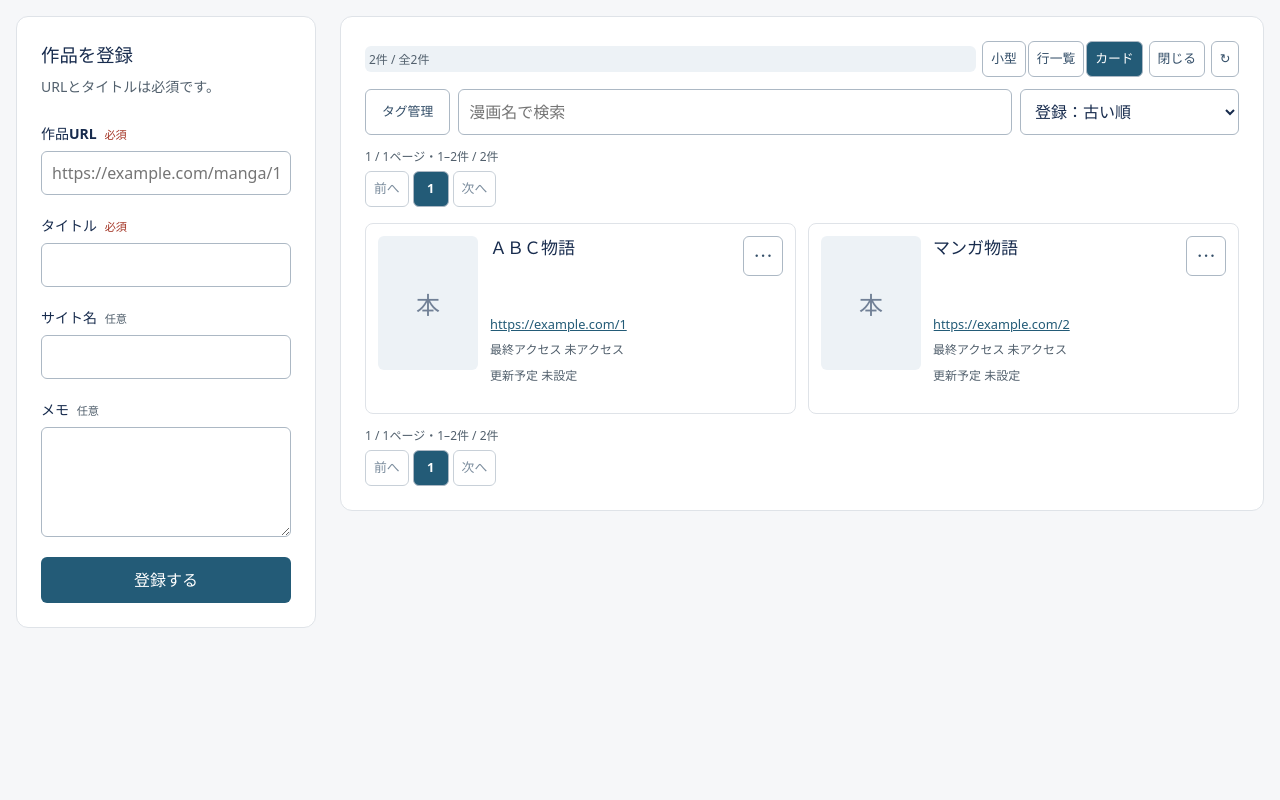
登録中は開閉を止め、検索不一致の登録でも成功を案内する
The width and height of the screenshot is (1280, 800).
Expected: the heading "ＡＢＣ物語" is shown, [490,236,575,259]
Type "abc" into the search field at {"x": 735, "y": 112}, box [458,89,1012,135]
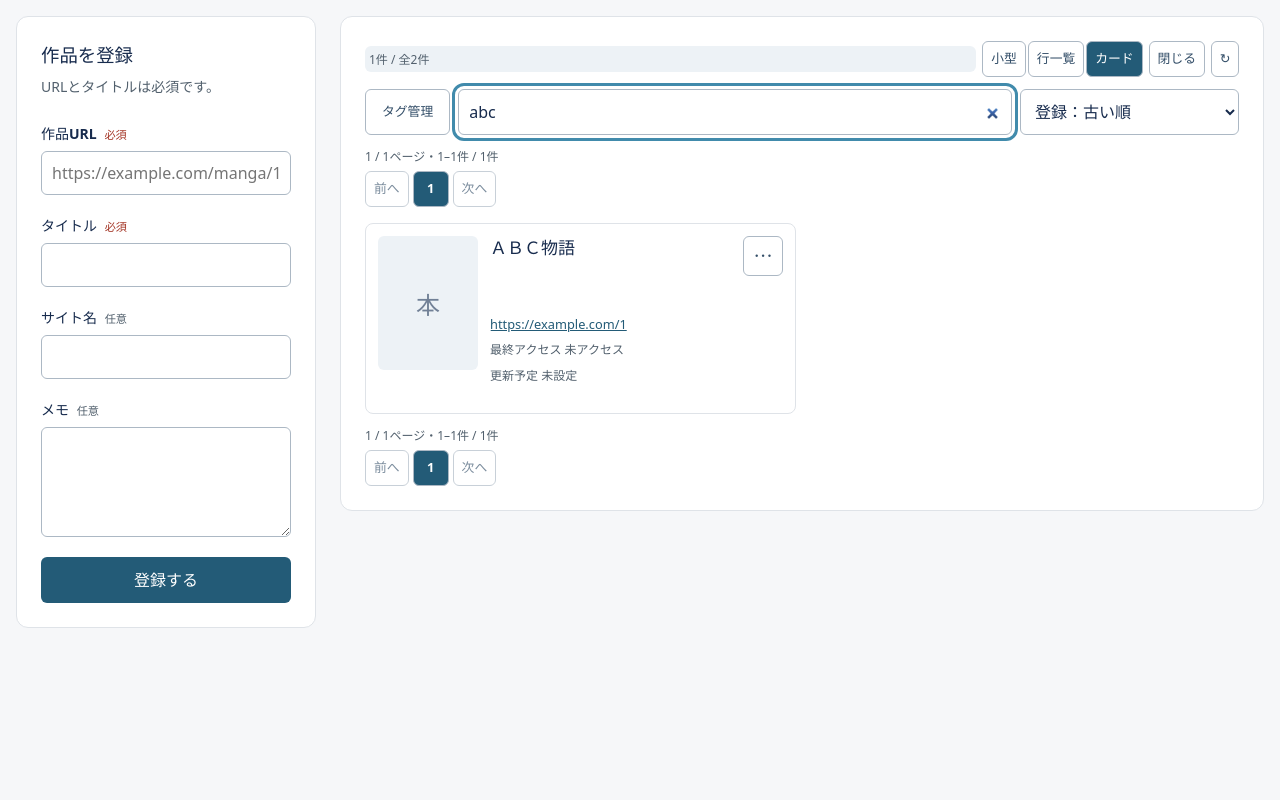
Type "https://example.com/2" into the field labelled "作品URL 必須" at {"x": 166, "y": 173}, box [41,151,291,195]
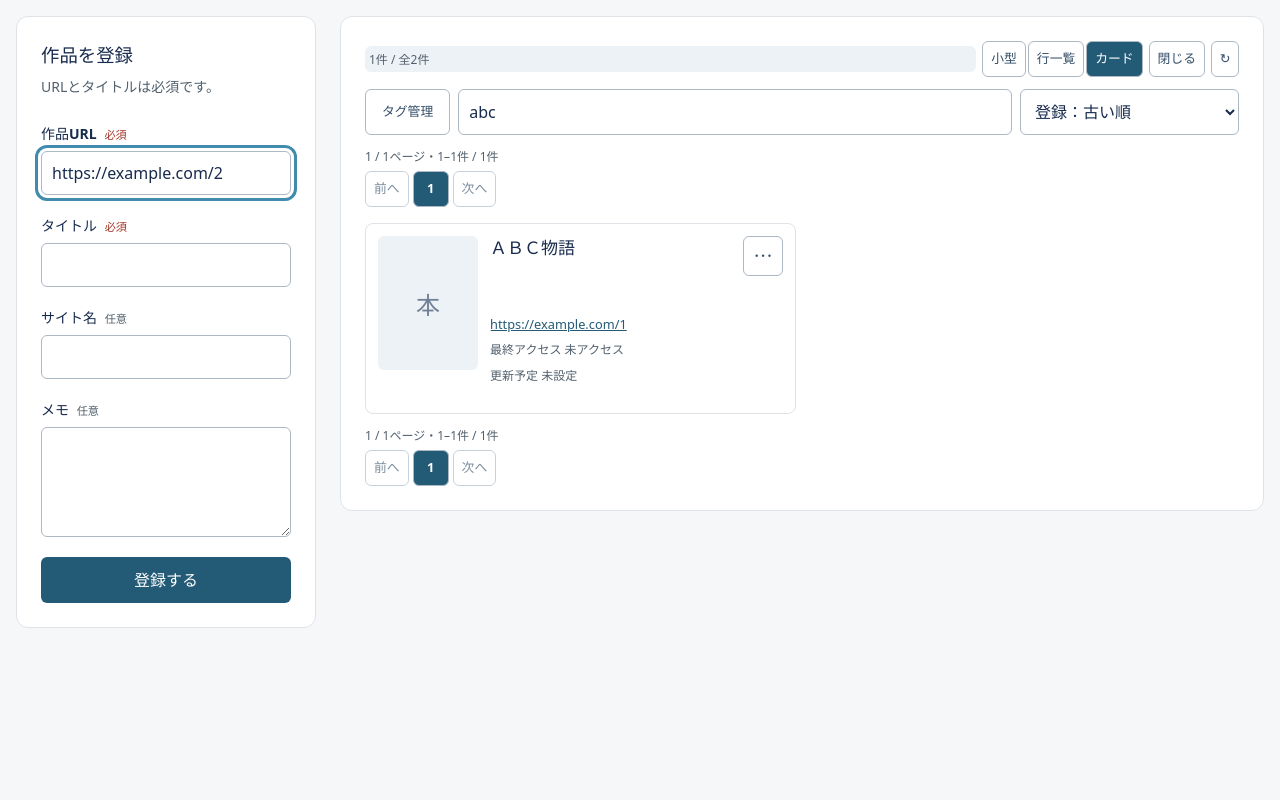
Type "マンガ物語" into the field labelled "タイトル 必須" at {"x": 166, "y": 265}, box [41,243,291,287]
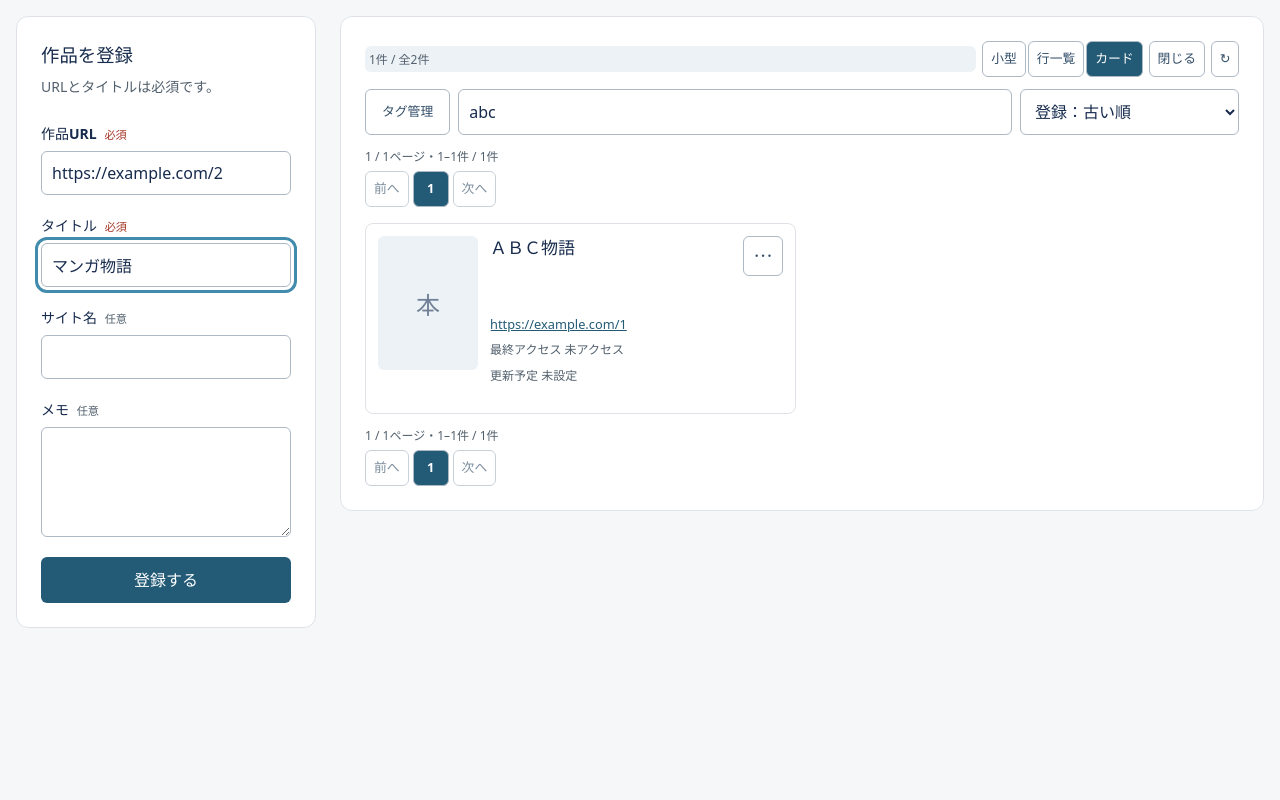
Click the button "登録する" at {"x": 166, "y": 580}, box [41,557,291,603]
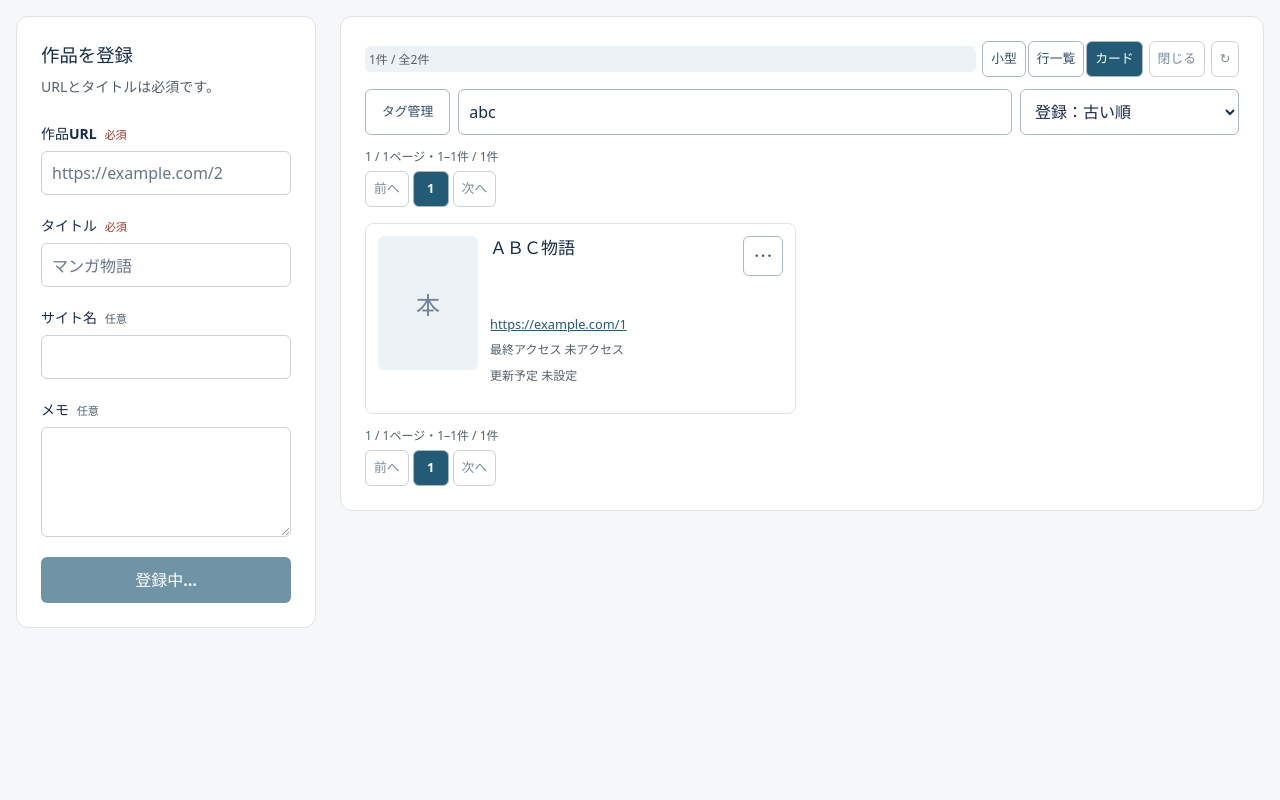
Expected: the button with aria-label "登録フォームを閉じる" is disabled
Click the button with aria-label "登録フォームを閉じる" at {"x": 1177, "y": 59}, box [1149,41,1205,77]
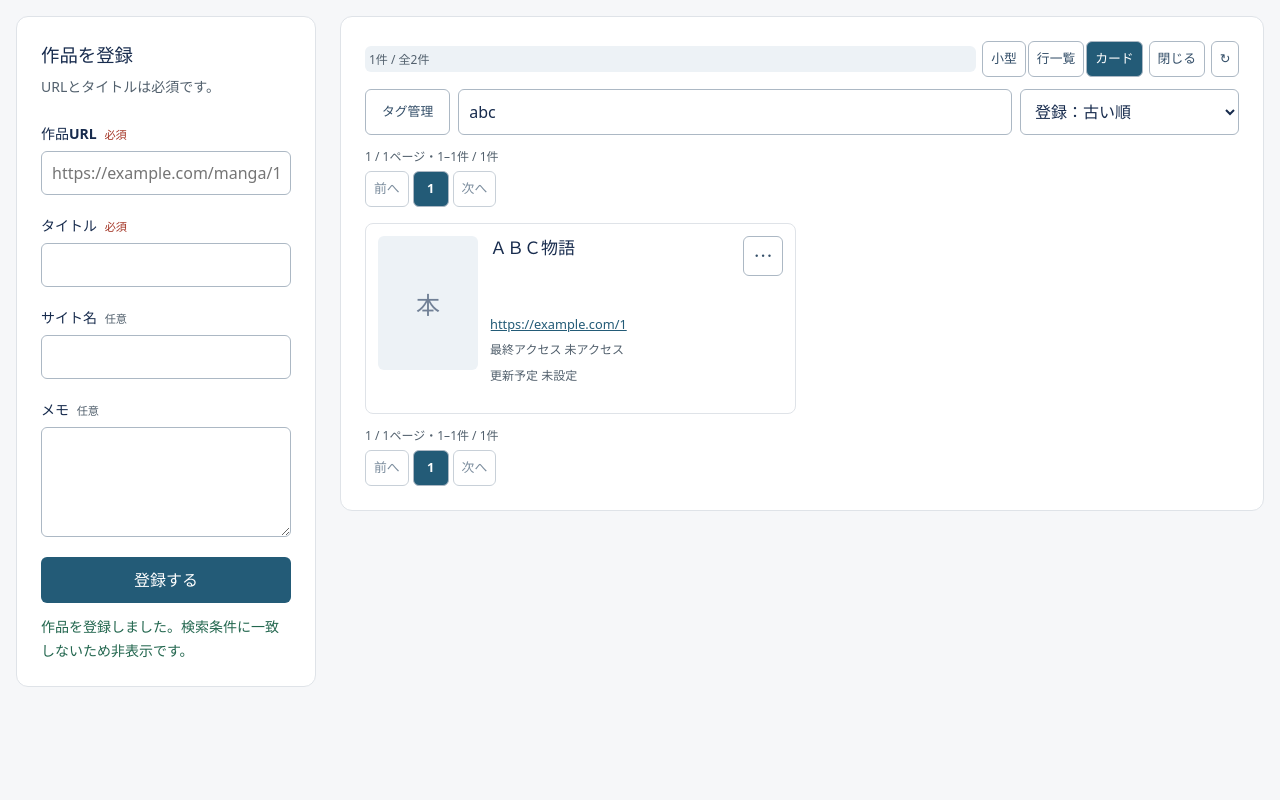
Expected: the heading "マンガ物語" is not shown
Expected: the text "作品を登録しました。検索条件に一致しないため非表示です。" is shown, [41,615,291,662]
Expected: the field labelled "タイトル 必須" is empty, [41,243,291,287]
